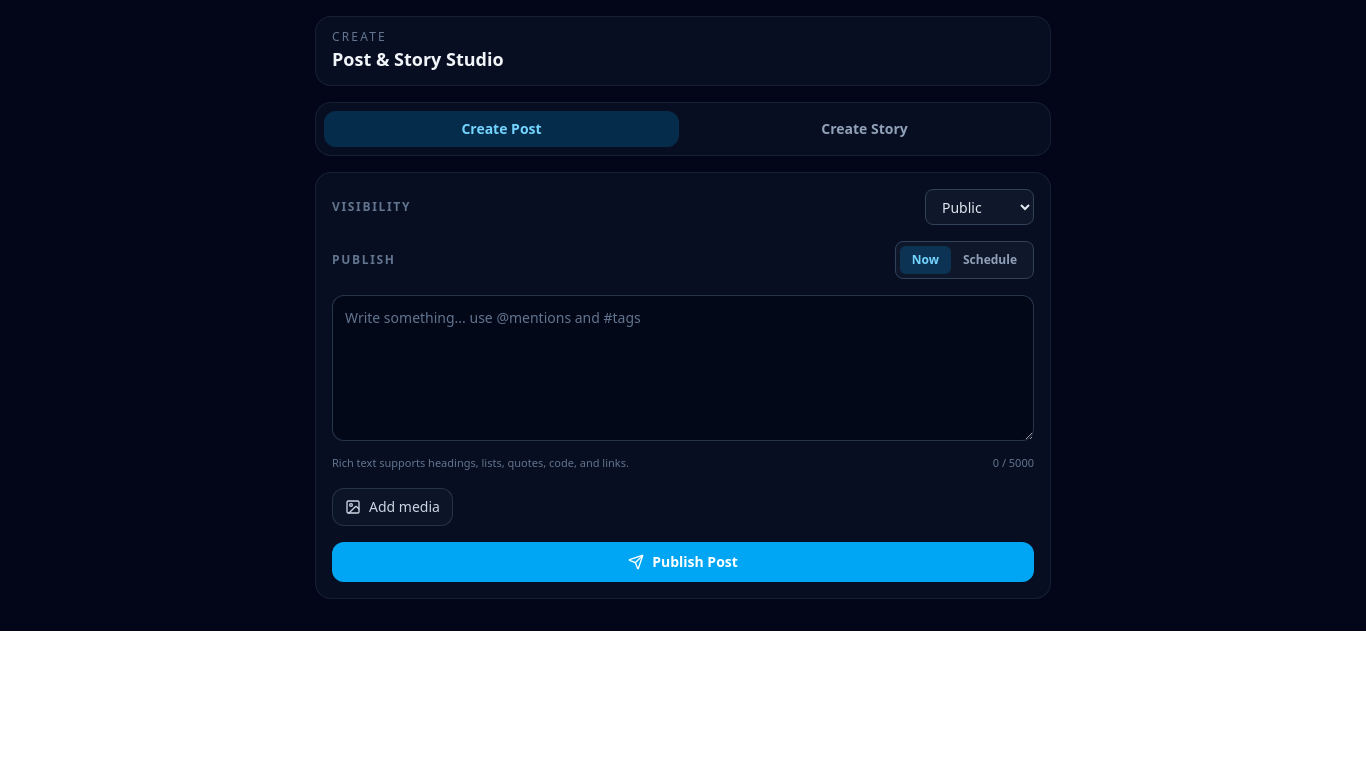
Scenario: CreatePostPage › renders deduplicated lowercase hashtags
In the text box with placeholder "Write something... use @mentions and #tags": (683, 368) x1=332 y1=295 x2=1034 y2=441, type "Hello #React #react #Testing"
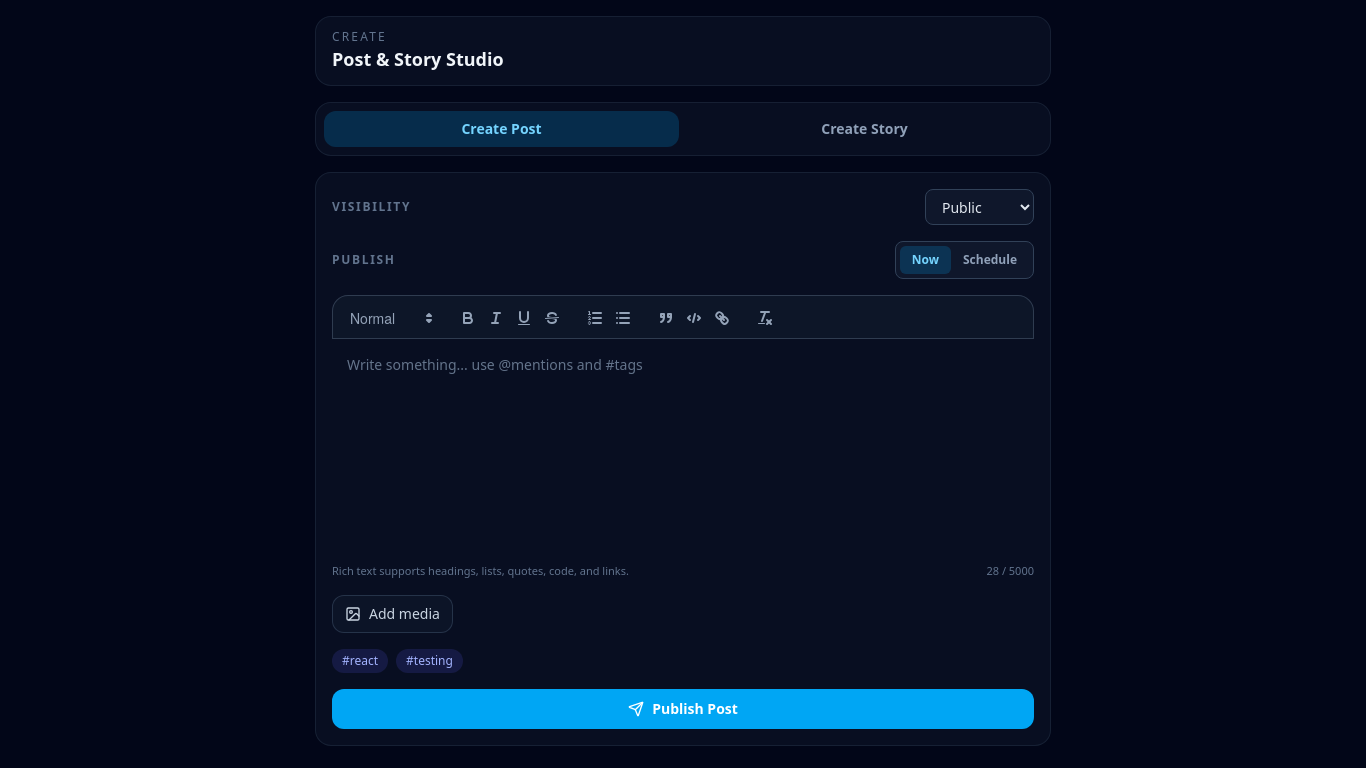
Result: the text "#react" is shown once at x1=332 y1=649 x2=388 y2=673
Result: the text "#testing" is shown at x1=396 y1=649 x2=463 y2=673
